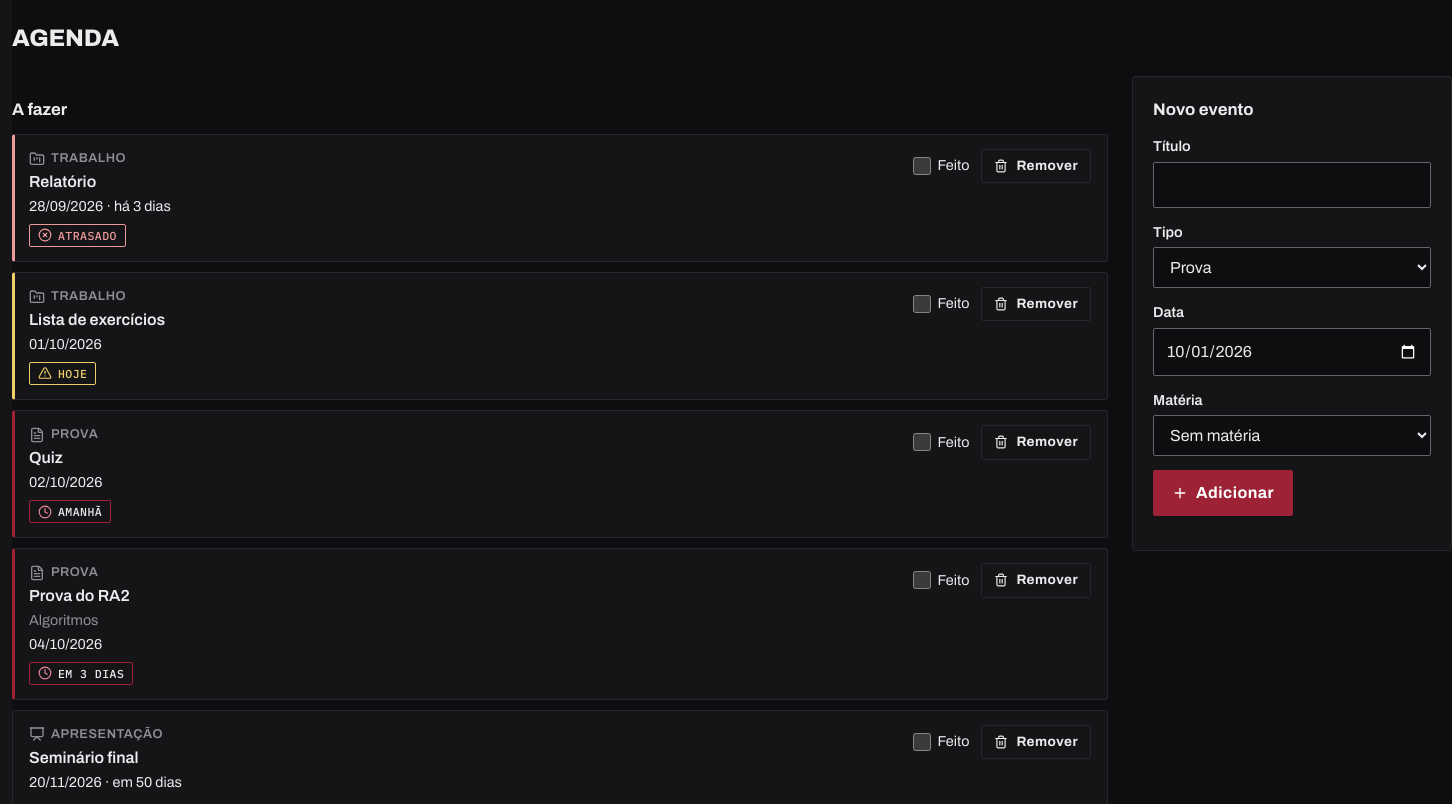
it: TelaAgenda › remove em dois passos, e dá para desistir
Click the button with aria-label "Remover Quiz" at point(1036, 442), box [982, 425, 1091, 460]
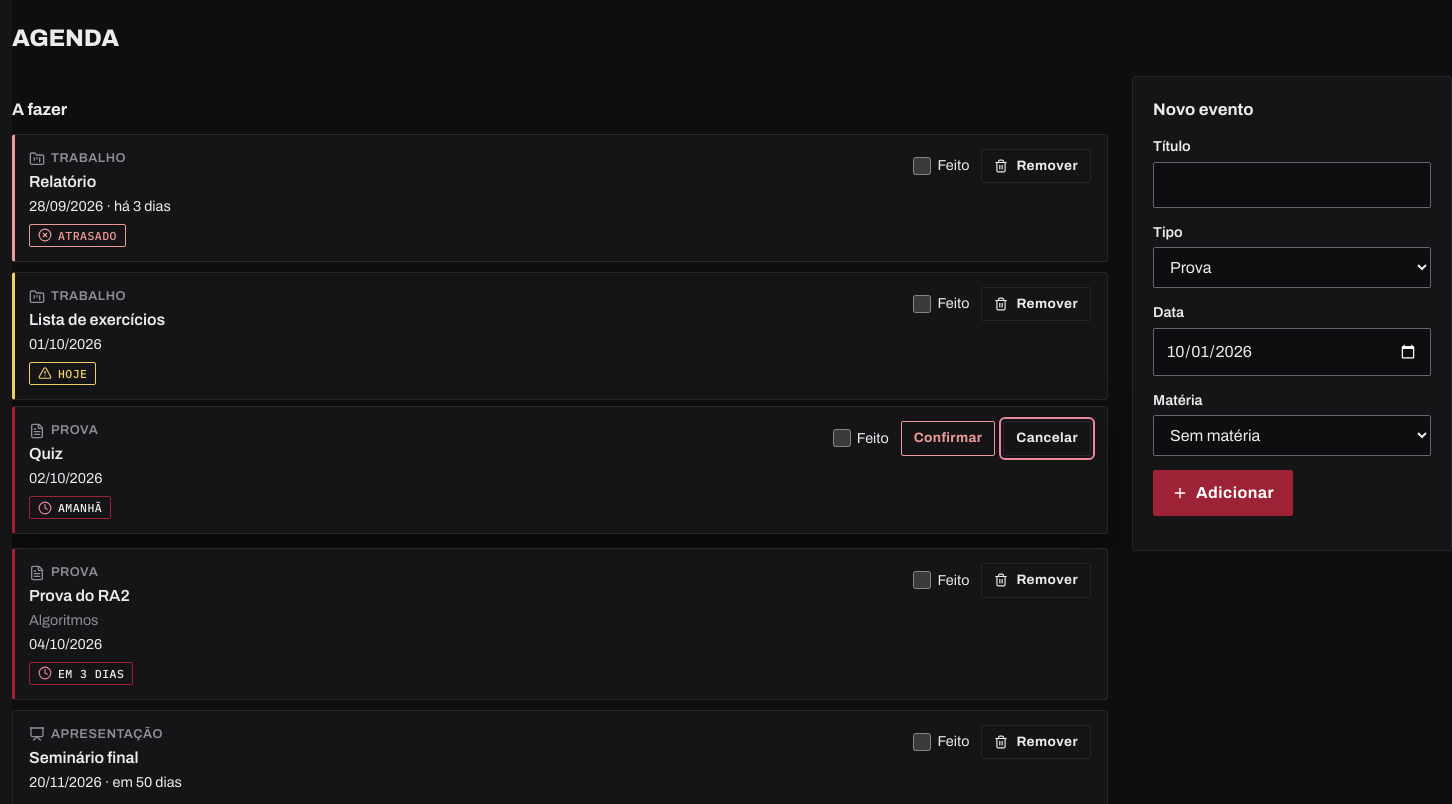
Check: the text "Quiz" is shown, box [29, 442, 63, 466]
Click the button with aria-label "Cancelar remoção de Quiz" at point(1047, 438), box [1003, 421, 1091, 456]
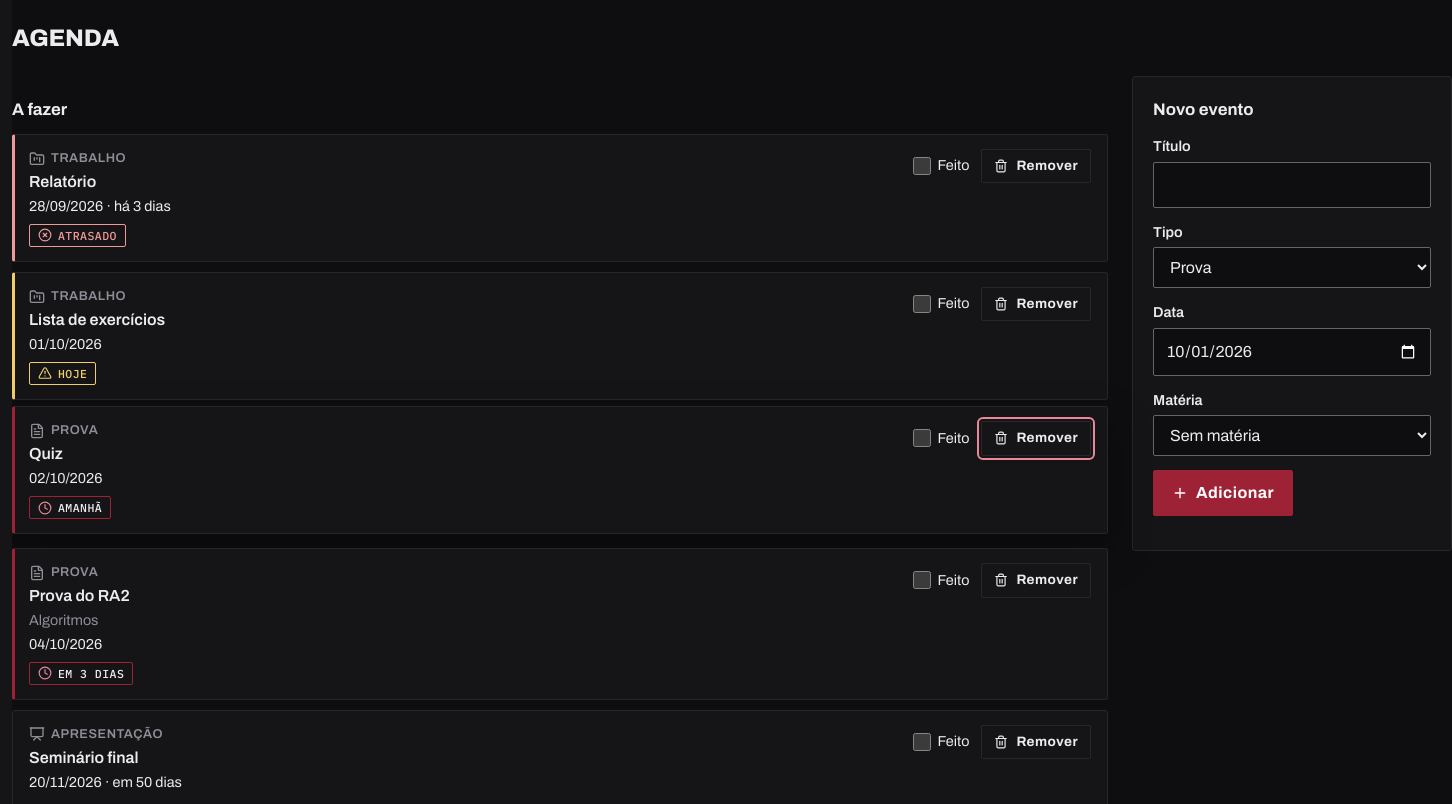
Click the button with aria-label "Remover Quiz" at point(1036, 438), box [982, 421, 1091, 456]
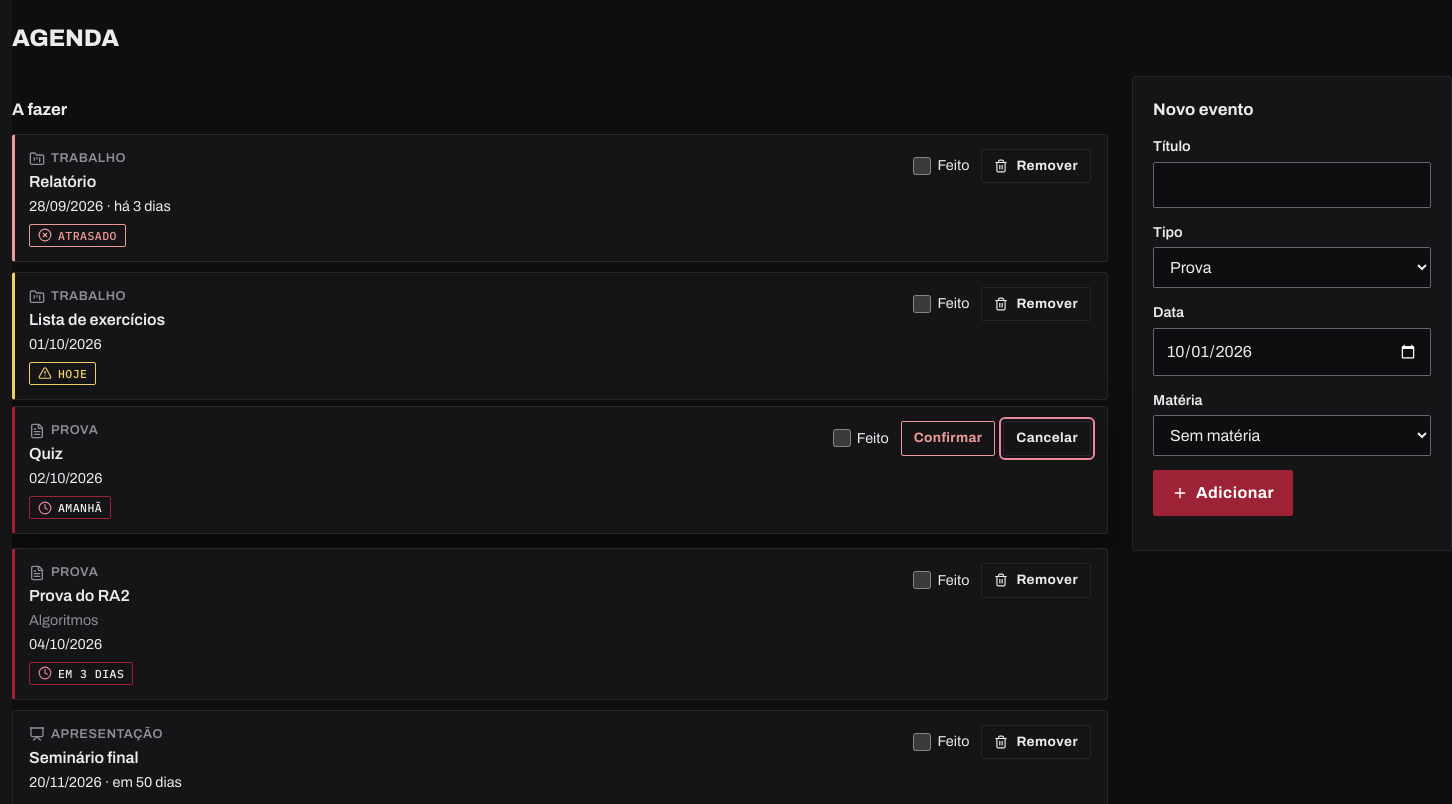
Click the button with aria-label "Confirmar remoção de Quiz" at point(948, 438), box [901, 421, 995, 456]
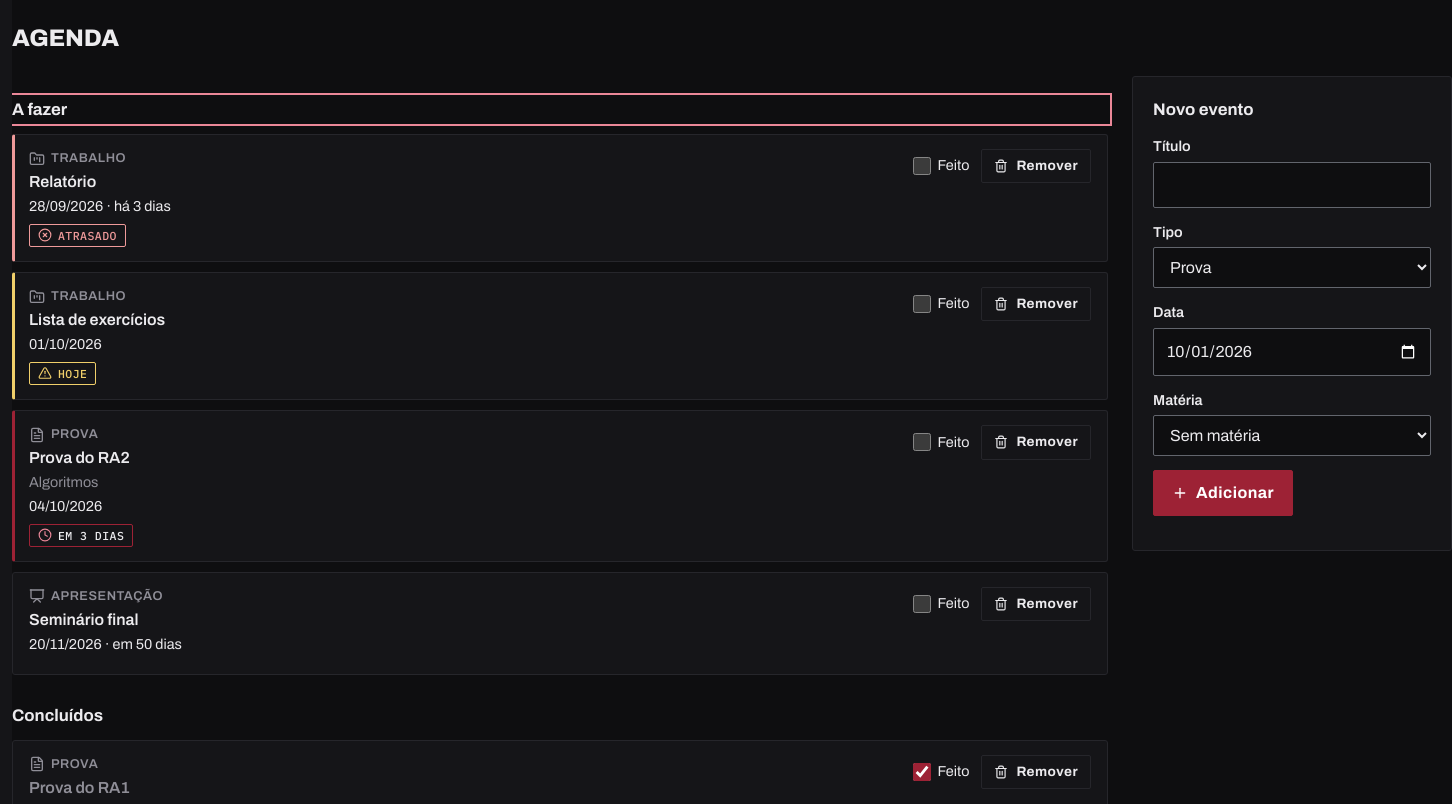
Check: the text "Quiz" is gone
